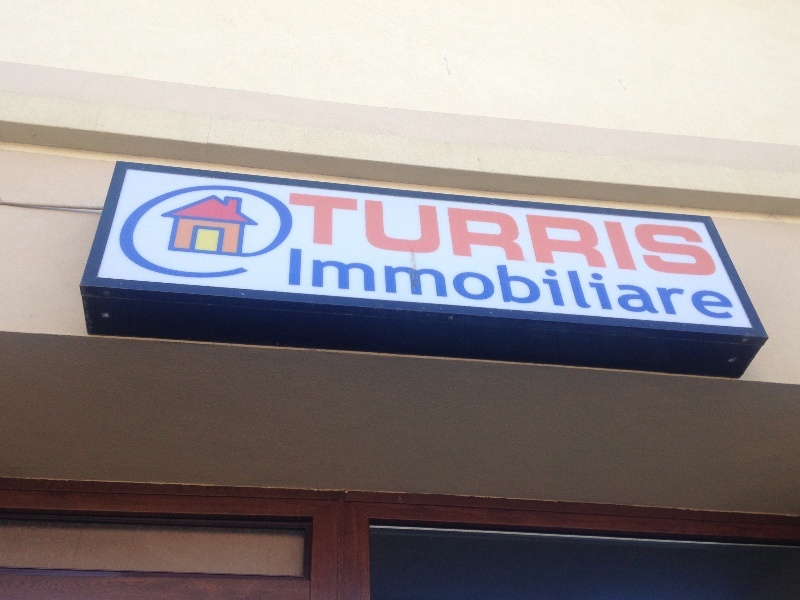text: (289, 190, 304, 283), (305, 190, 320, 283), (321, 190, 336, 283), (337, 190, 352, 283), (353, 190, 368, 283), (369, 190, 384, 283), (385, 190, 400, 283), (401, 190, 416, 283), (417, 190, 432, 283), (433, 190, 448, 283), (449, 190, 464, 283), (465, 190, 480, 283), (481, 190, 496, 283), (497, 190, 512, 283), (513, 190, 528, 283), (529, 190, 544, 283), (545, 190, 560, 283), (561, 190, 576, 283), (577, 190, 592, 283), (593, 190, 608, 283), (609, 190, 624, 283), (625, 190, 640, 283), (641, 190, 656, 283), (657, 190, 672, 283), (673, 190, 688, 283), (689, 190, 704, 283), (705, 190, 720, 283), (289, 246, 304, 326), (305, 246, 320, 326), (321, 246, 336, 326), (337, 246, 352, 326), (353, 246, 368, 326), (369, 246, 384, 326), (385, 246, 400, 326), (401, 246, 416, 326), (417, 246, 432, 326), (433, 246, 448, 326), (449, 246, 464, 326), (465, 246, 480, 326), (481, 246, 496, 326), (497, 246, 512, 326), (513, 246, 528, 326), (529, 246, 544, 326), (545, 246, 560, 326), (561, 246, 576, 326), (577, 246, 592, 326), (593, 246, 608, 326), (609, 246, 624, 326), (625, 246, 640, 326), (641, 246, 656, 326), (657, 246, 672, 326), (673, 246, 688, 326), (689, 246, 704, 326), (705, 246, 720, 326), (721, 246, 736, 326), (737, 246, 745, 326), (721, 190, 726, 283)
